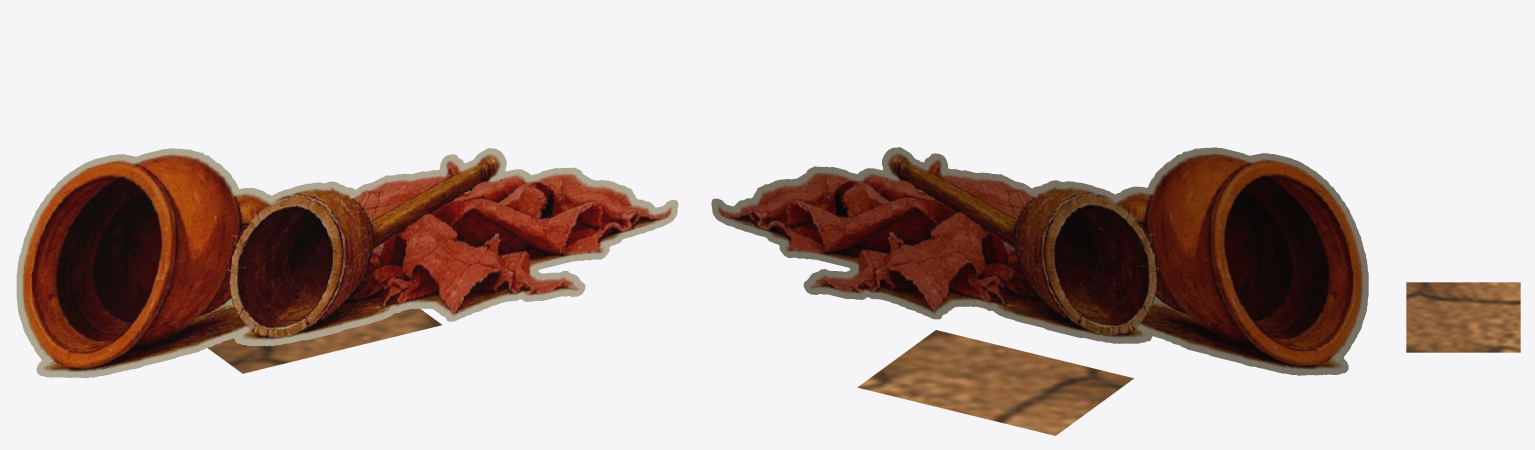
The model's file is toad-prop-cluster-pots.glb.
3 renders of one model, left to right at view 1: azimuth 30°, elevation 25°; view 2: azimuth 150°, elevation 25°; view 3: azimuth 270°, elevation 25°, orthographic. The views are drawn at different scales.
Visible parts, largest first — view 1: cluster-pots; view 2: cluster-pots; view 3: cluster-pots.
Boxes of the visible parts, bbox=[...] form: cluster-pots: bbox=[16, 148, 678, 378]; cluster-pots: bbox=[711, 147, 1368, 435]; cluster-pots: bbox=[1406, 282, 1520, 352].
Bounding box in the file's own units: 0.16 × 0.0596 × 0.035.
Materials: 1 (1 with a texture image).
